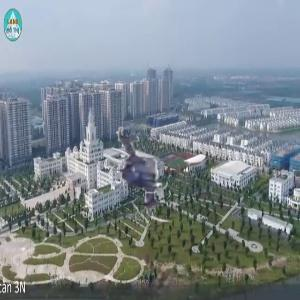drone: (92, 121, 200, 229)
